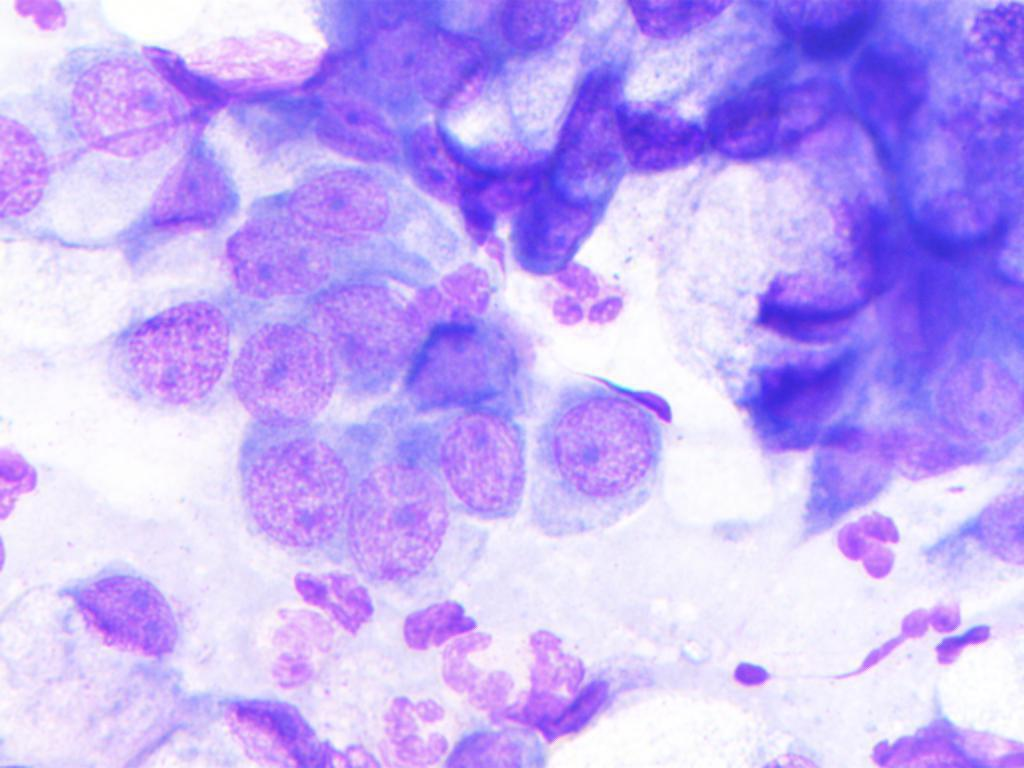epithelial: (527, 373, 685, 551), (79, 280, 232, 420), (242, 414, 353, 574), (303, 270, 427, 395), (354, 2, 492, 113), (58, 49, 180, 174), (798, 405, 900, 535), (347, 444, 444, 580), (229, 316, 332, 424), (447, 406, 535, 524), (923, 350, 1024, 451), (145, 145, 249, 236), (295, 81, 406, 166), (278, 169, 391, 246), (226, 216, 332, 293), (966, 473, 1024, 598)
goblet_cell: (3, 557, 192, 765), (396, 113, 545, 234), (609, 14, 724, 167), (545, 55, 636, 220), (503, 165, 616, 279), (701, 78, 852, 159)
neutrophil: (437, 616, 596, 728), (250, 591, 347, 702), (360, 673, 462, 768), (521, 266, 639, 331), (834, 505, 905, 581), (894, 597, 969, 644)
